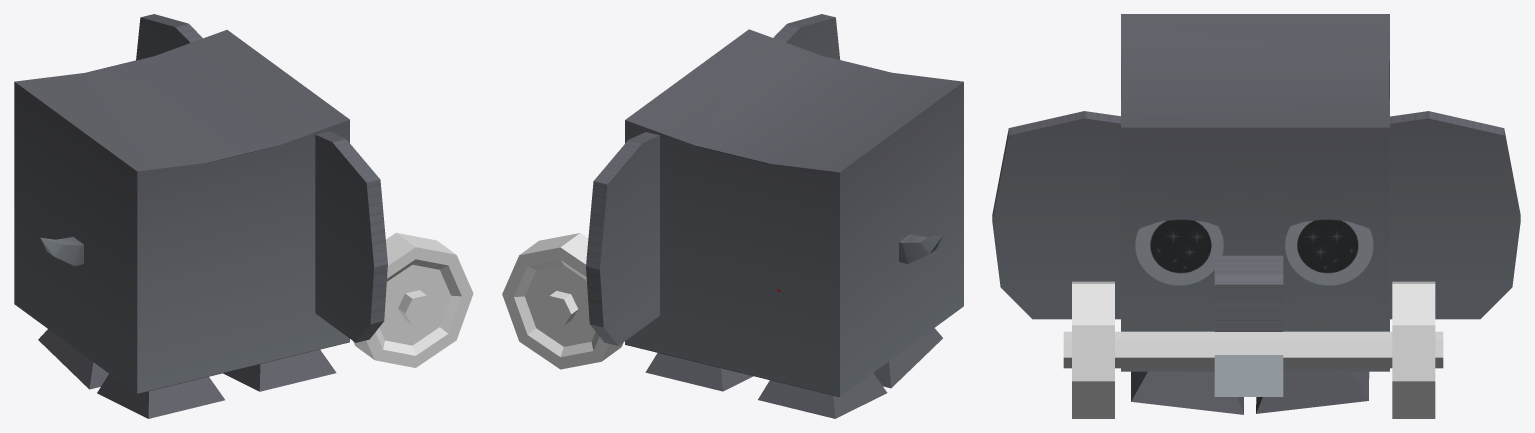
Rendered from Elephant.fbx.
3 views of the same model, side by side, from view 1: azimuth 30°, elevation 25°; view 2: azimuth 150°, elevation 25°; view 3: azimuth 270°, elevation 25° (orthographic). The views are drawn at different scales.
Parts seen in each view (by area): view 1: Cat.001, Cube.001, WeightPlate, Cube, Cylinder, Cube.002; view 2: Cat.001, Cube.001, WeightPlate.001, Cube, Cylinder, Cube.002; view 3: Cat.001, Cube.001, Cylinder, Cube.003, Cube, WeightPlate.001, WeightPlate.
Boxes of the visible parts, left/top/right/bottom form: Cat.001: left=14, top=30, right=349, bottom=393; Cube.001: left=136, top=14, right=387, bottom=342; WeightPlate: left=353, top=232, right=473, bottom=367; Cube: left=38, top=329, right=336, bottom=418; Cylinder: left=398, top=290, right=433, bottom=324; Cube.002: left=40, top=237, right=83, bottom=266; Cat.001: left=625, top=29, right=963, bottom=396; Cube.001: left=586, top=14, right=840, bottom=345; WeightPlate.001: left=502, top=233, right=623, bottom=369; Cube: left=645, top=328, right=942, bottom=418; Cylinder: left=542, top=290, right=578, bottom=325; Cube.002: left=899, top=234, right=942, bottom=263; Cat.001: left=1121, top=14, right=1389, bottom=371; Cube.001: left=992, top=111, right=1520, bottom=319; Cylinder: left=1063, top=331, right=1443, bottom=368; Cube.003: left=1214, top=255, right=1283, bottom=396; Cube: left=1131, top=371, right=1369, bottom=414; WeightPlate.001: left=1392, top=281, right=1435, bottom=418; WeightPlate: left=1072, top=281, right=1114, bottom=418.
Size of the model in its own units: 331 by 239 by 393.
Materials: 2 (1 with a texture image).
